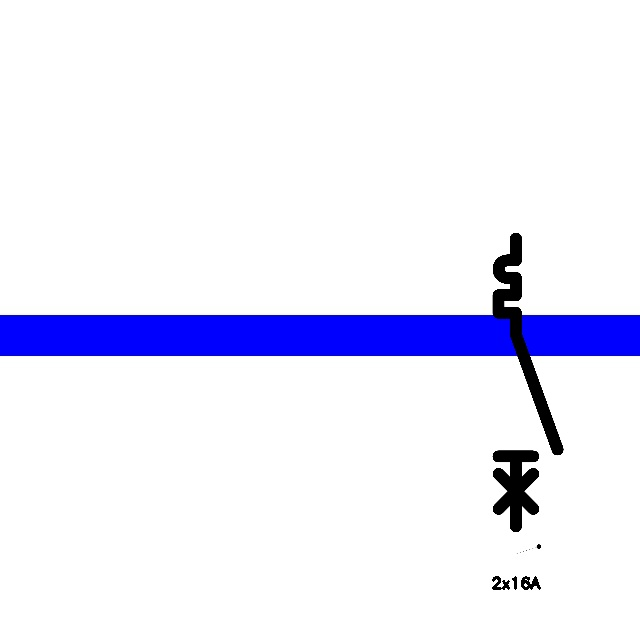interruptor_termomagnetico: (491, 231, 565, 533)
